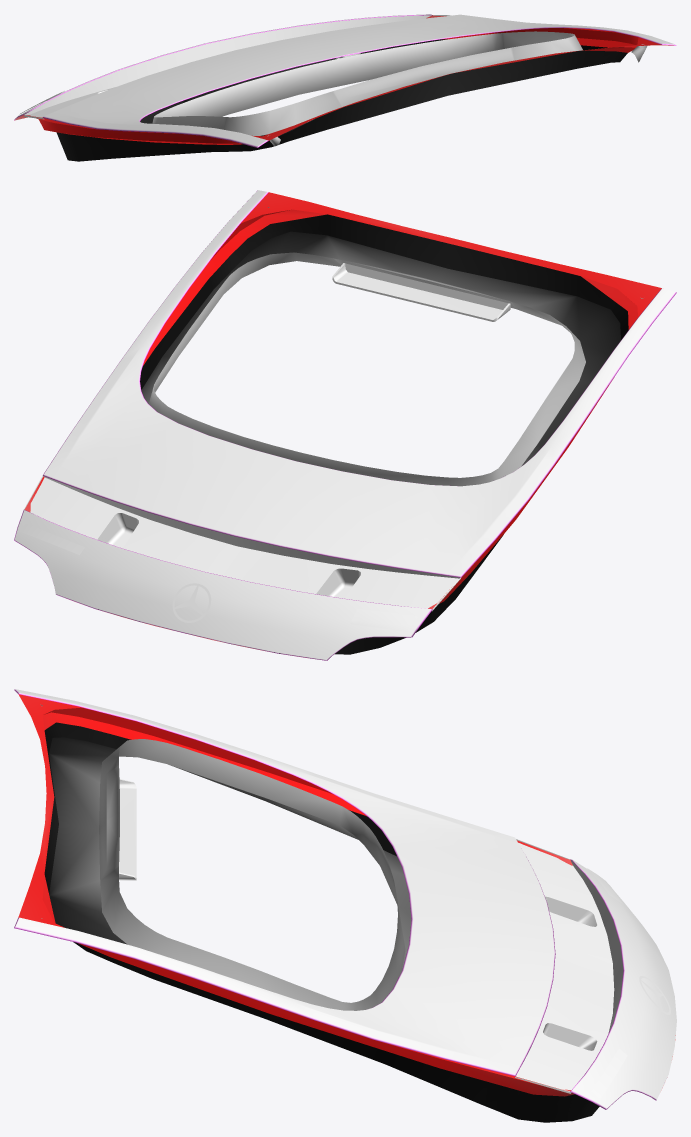
File: Car_MercedesBenz_AMGGT_2015_Boot_SetGTR.fbx
The picture shows the model from 3 angles, top to bottom: view 1: azimuth 30°, elevation 25°; view 2: azimuth 150°, elevation 25°; view 3: azimuth 270°, elevation 25°; orthographic projection. The views are drawn at different scales.
Parts seen in each view (by area): view 1: Boot 6; view 2: Boot 6; view 3: Boot 6.
Boxes of the visible parts, left/top/right/bottom form: Boot 6: left=14, top=14, right=676, bottom=161; Boot 6: left=14, top=190, right=676, bottom=660; Boot 6: left=14, top=689, right=676, bottom=1122.
Bounding box in the file's own units: 1.11 × 0.5338 × 1.26.
